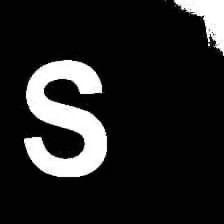LTR_S: (13, 51, 112, 180)
